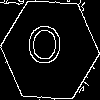O: (25, 25, 64, 74)
